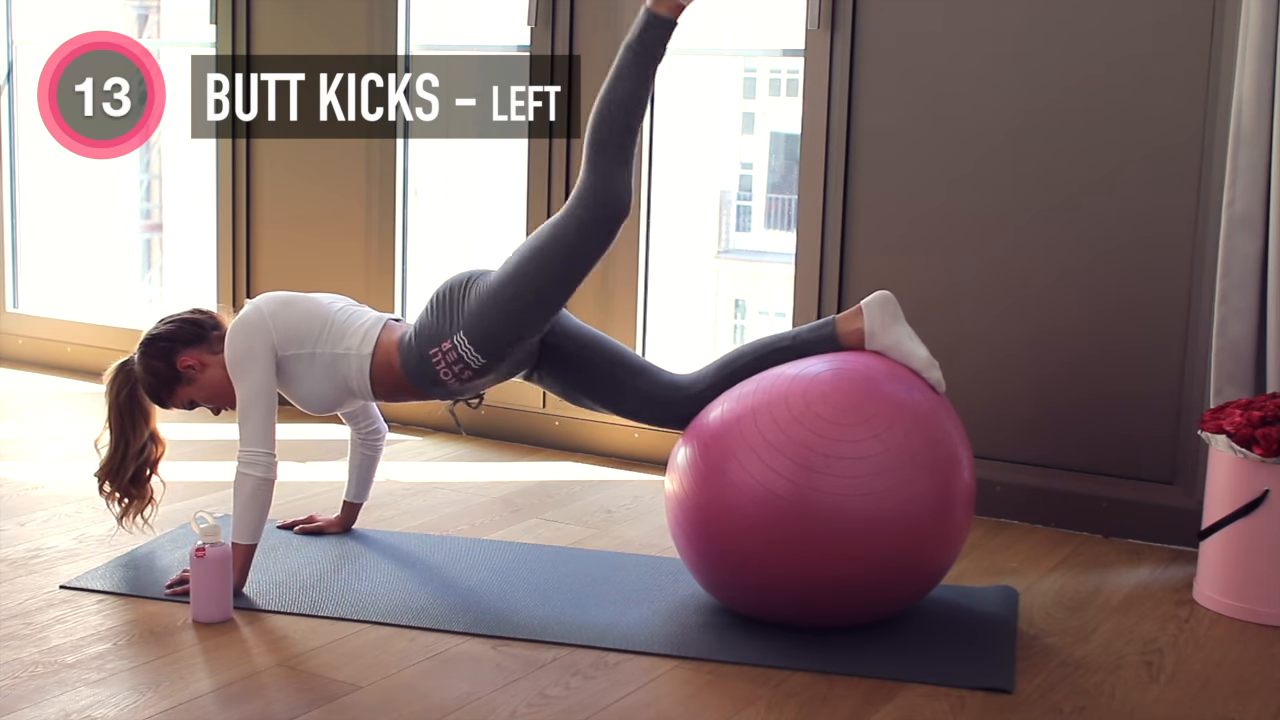yogaball: (661, 343, 986, 645)
